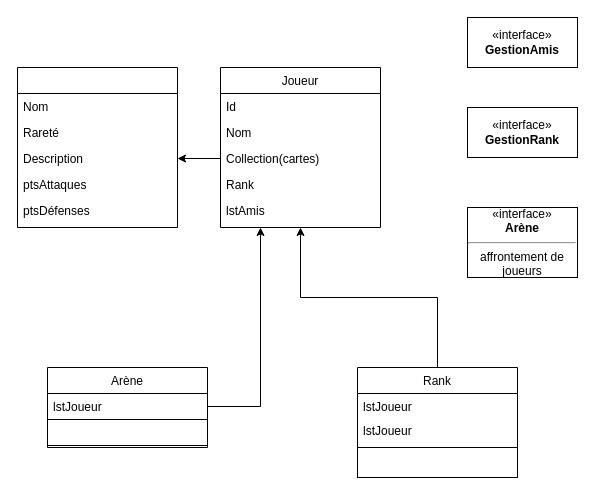
Some shapes in this 595 by 498 pixel diagram are drawn without their labels. Each missing label, with the box of its shape:
affiche lstJoueur: (356, 446, 518, 478)
Carte: (16, 66, 178, 228)
Match: (46, 418, 208, 446)
